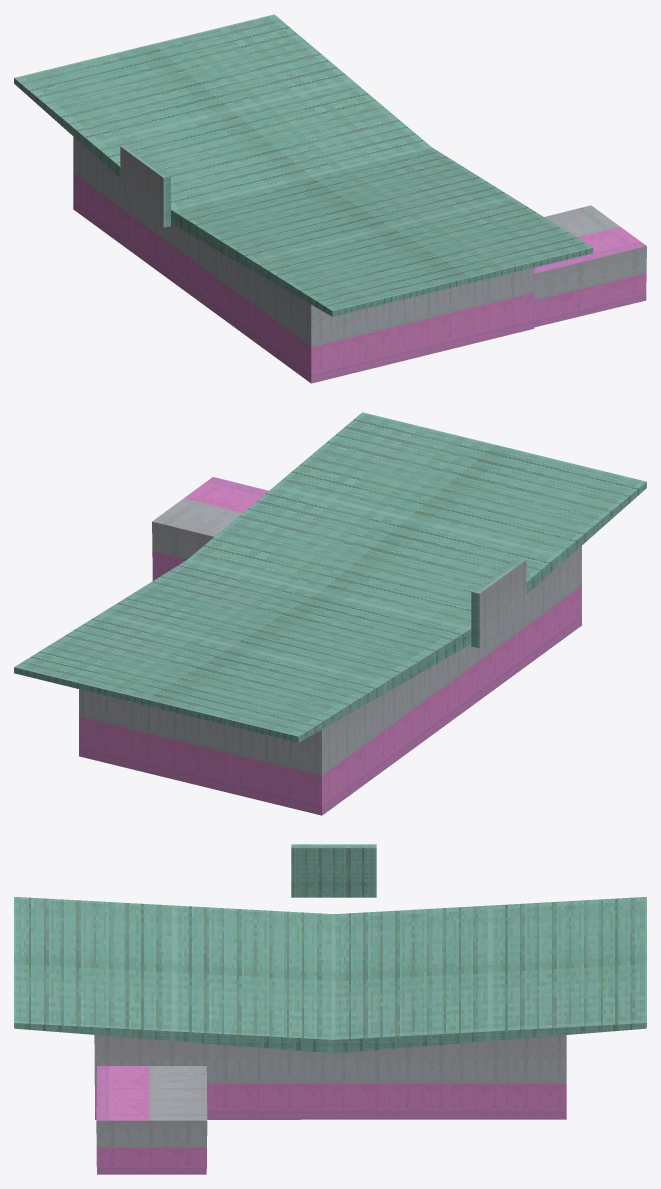
Rendered from lodtripx1_las.obj.
The picture shows the model from 3 angles, top to bottom: view 1: azimuth 30°, elevation 25°; view 2: azimuth 150°, elevation 25°; view 3: azimuth 270°, elevation 25°; orthographic projection. The views are drawn at different scales.
Parts seen in each view (by area): view 1: LODtripx1_LAS; view 2: LODtripx1_LAS; view 3: LODtripx1_LAS.
Boxes of the visible parts, box(x1,y1,x2,y2) form: LODtripx1_LAS: box(14, 14, 646, 383); LODtripx1_LAS: box(14, 412, 646, 815); LODtripx1_LAS: box(14, 844, 646, 1174).
Bounding box in the file's own units: 20.9 × 7.51 × 29.96.
Materials: 1 (1 with a texture image).
